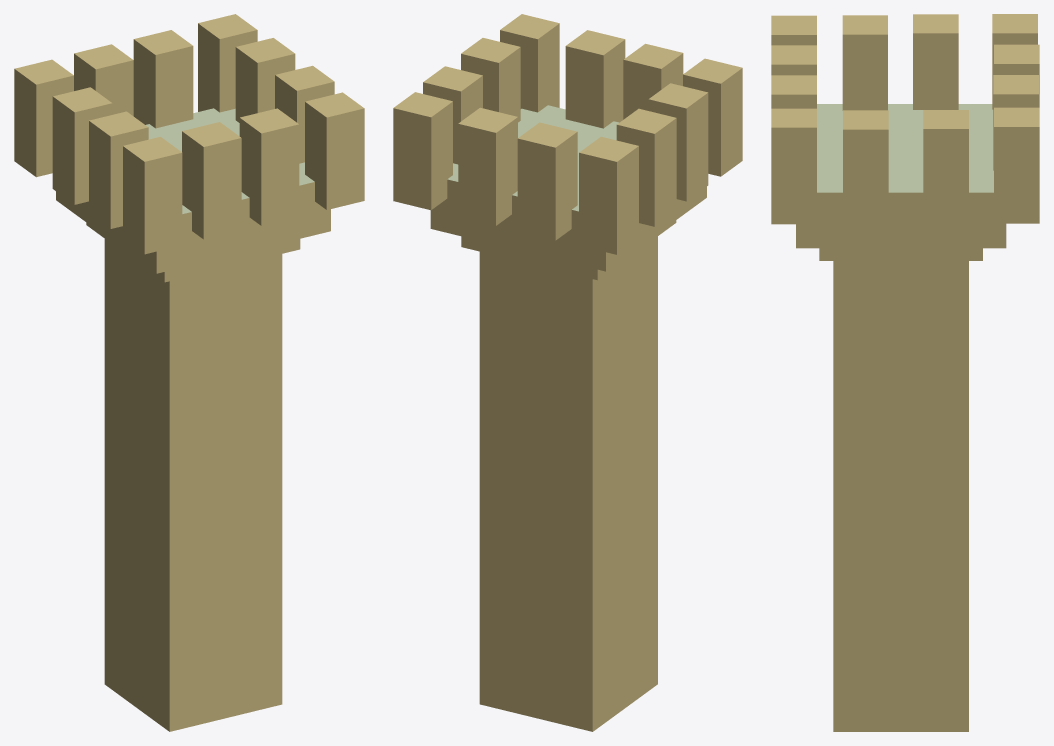
File: tower3.fbx
The picture shows the model from 3 angles, left to right: view 1: azimuth 30°, elevation 25°; view 2: azimuth 150°, elevation 25°; view 3: azimuth 270°, elevation 25°; orthographic projection. The views are drawn at different scales.
Visible parts, largest first — view 1: Cube.005; view 2: Cube.005; view 3: Cube.005.
Part boxes in pixels (left/top/right/bottom): Cube.005: left=14, top=14, right=364, bottom=731; Cube.005: left=393, top=14, right=742, bottom=731; Cube.005: left=771, top=14, right=1039, bottom=731.
Bounding box in the file's own units: 404 × 1030 × 396.
